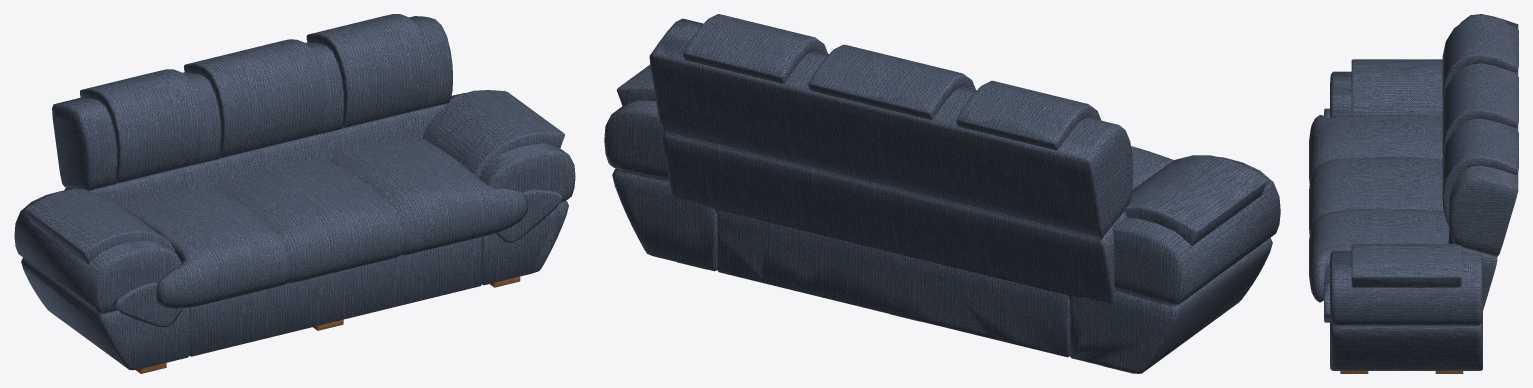
The model's file is sofa.glb.
3 renders of one model, left to right at view 1: azimuth 30°, elevation 25°; view 2: azimuth 150°, elevation 25°; view 3: azimuth 270°, elevation 25°, orthographic. The views are drawn at different scales.
Parts seen in each view (by area): view 1: Sofa_Tecido_Sofa_Tecido_0, Sofa_Pes_Sofa_Pes_0; view 2: Sofa_Tecido_Sofa_Tecido_0; view 3: Sofa_Tecido_Sofa_Tecido_0.
Boxes of the visible parts, x1,y1,x2,y2 form: Sofa_Tecido_Sofa_Tecido_0: (14, 14, 575, 370); Sofa_Pes_Sofa_Pes_0: (136, 276, 520, 373); Sofa_Tecido_Sofa_Tecido_0: (604, 14, 1280, 373); Sofa_Tecido_Sofa_Tecido_0: (1309, 14, 1518, 370).
Bounding box in the file's own units: 1.88 × 0.811 × 0.7657.
Materials: 2 (2 with a texture image).
